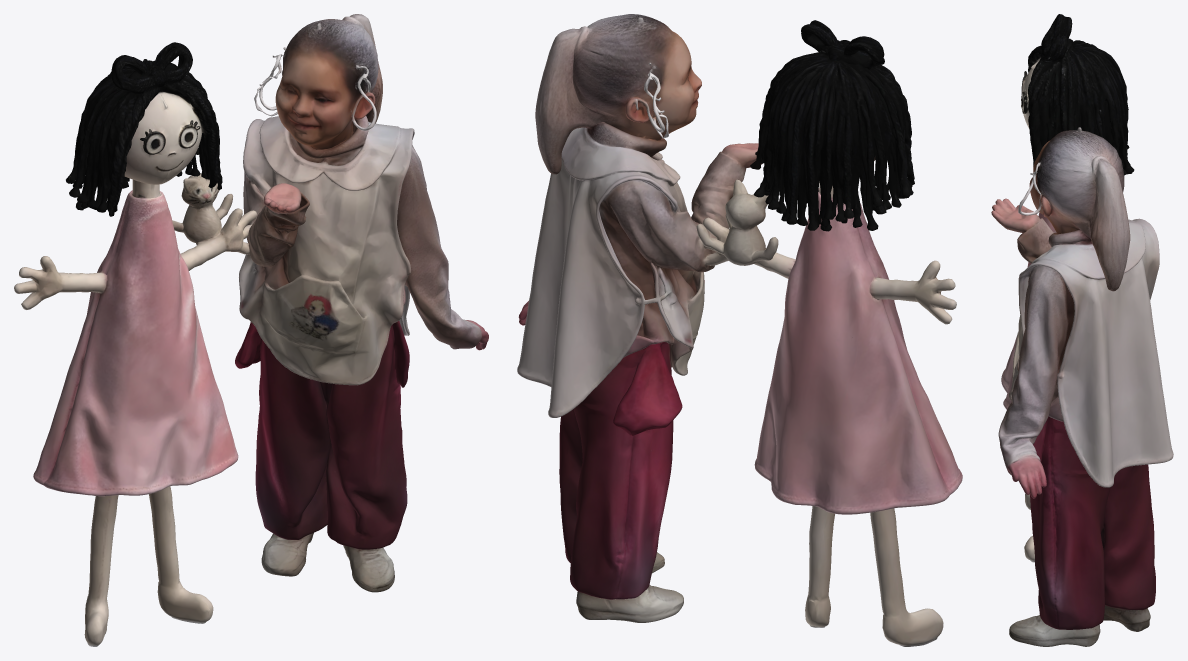
Rendered from Sol Baja.glb.
The picture shows the model from 3 angles, left to right: view 1: azimuth 30°, elevation 25°; view 2: azimuth 150°, elevation 25°; view 3: azimuth 270°, elevation 25°; orthographic projection. The views are drawn at different scales.
Visible parts, largest first — view 1: tripo_node_bb295915-27bb-40b3-9b63-40814c5827dc; view 2: tripo_node_bb295915-27bb-40b3-9b63-40814c5827dc; view 3: tripo_node_bb295915-27bb-40b3-9b63-40814c5827dc.
Part boxes in pixels (bbox=[...]): tripo_node_bb295915-27bb-40b3-9b63-40814c5827dc: bbox=[14, 14, 488, 646]; tripo_node_bb295915-27bb-40b3-9b63-40814c5827dc: bbox=[517, 14, 962, 646]; tripo_node_bb295915-27bb-40b3-9b63-40814c5827dc: bbox=[991, 14, 1173, 646].
Size of the model in its own units: 0.8007 by 1 by 0.3161.
1 material, 1 textured.
